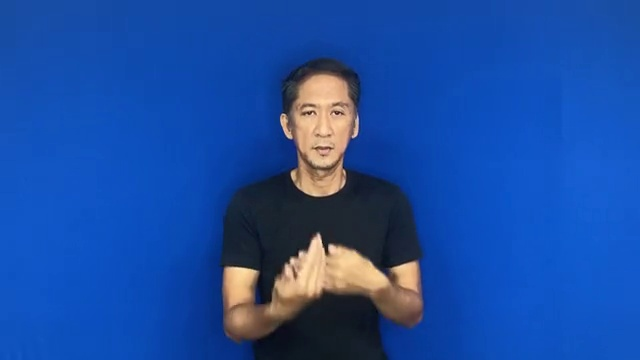bread: (267, 224, 384, 327)
